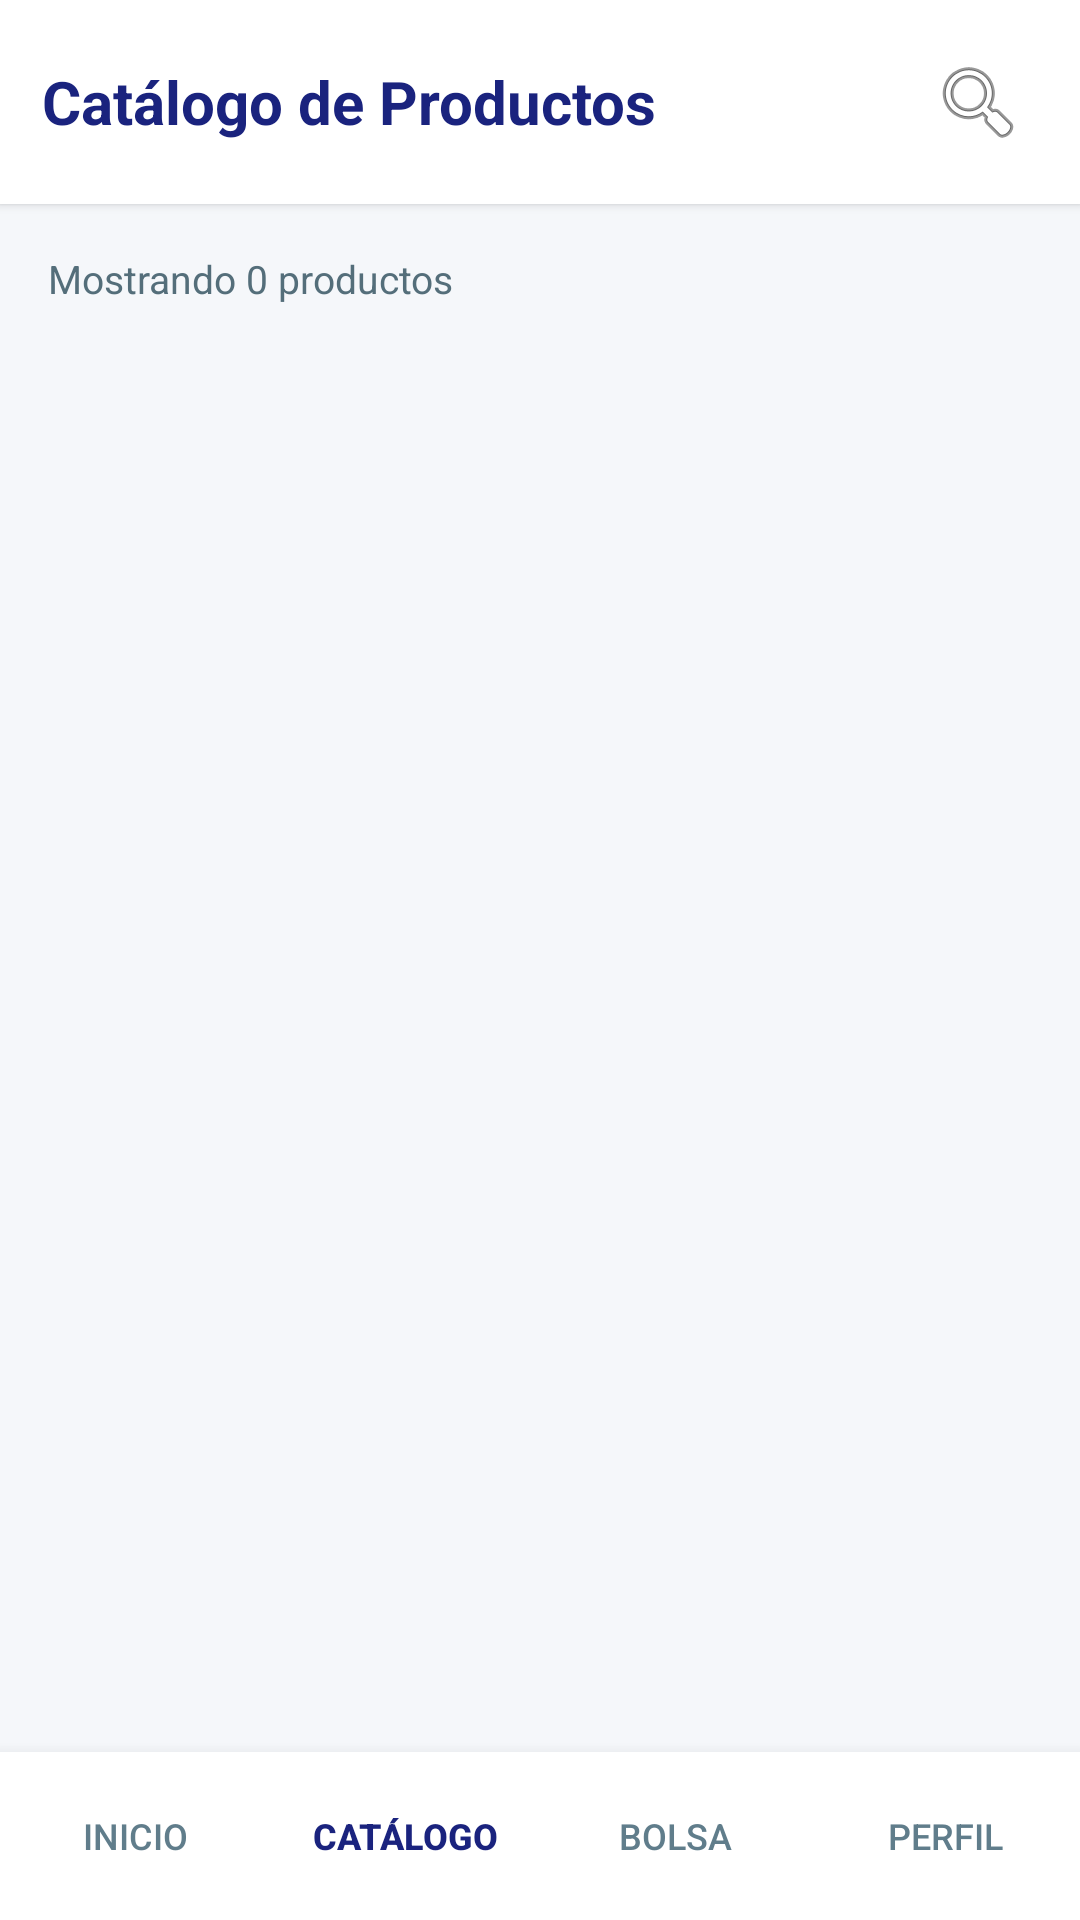

Where icons sit on this 1080w x 1920h app screen, as bbox=[x1, y1, x2, y2]:
Buscar producto: bbox=[942, 67, 1014, 138]
